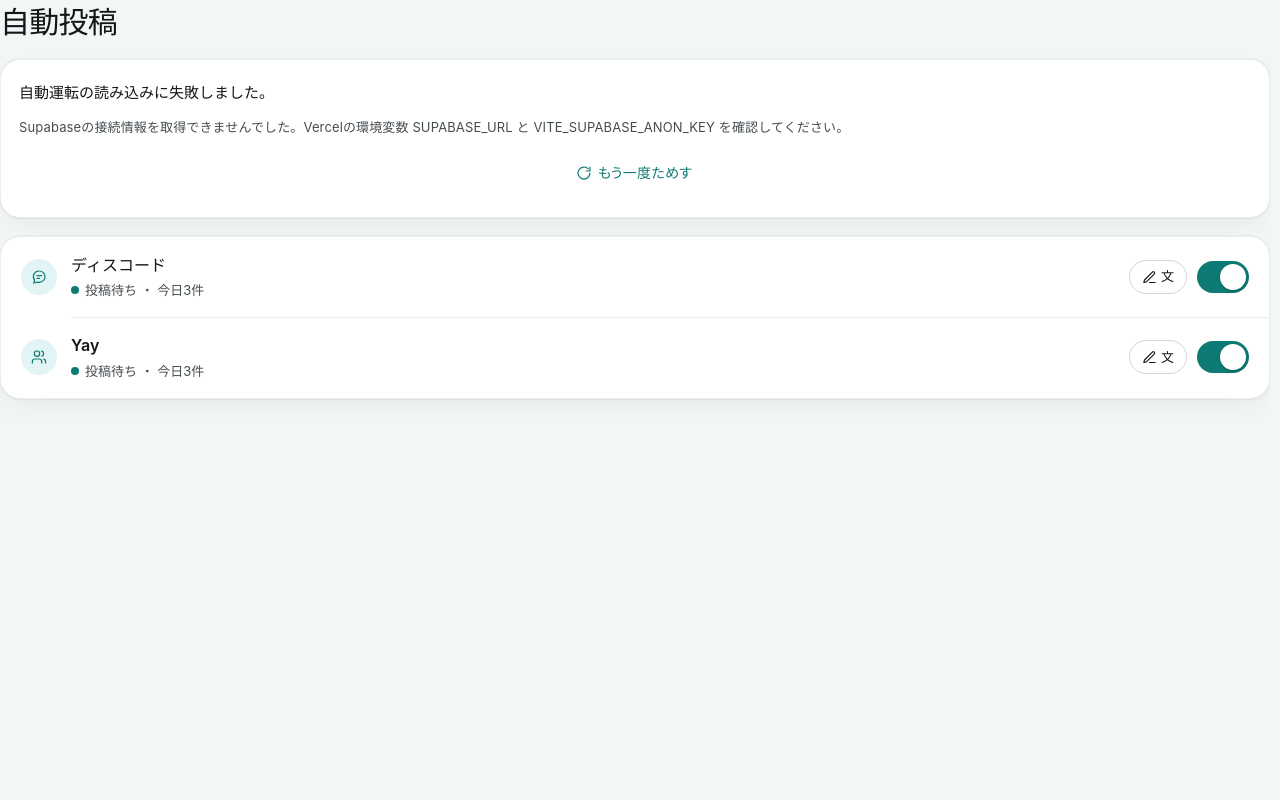
Test: AutoPostHome（アプリを開いて最初の1画面） › ポップアップの「これまでの文」の「使う」で、上の欄に入る（押しただけでは保存しない）
Click the button named "ディスコードの文を見る・直す" at (1158, 277), box [1129,260,1187,294]
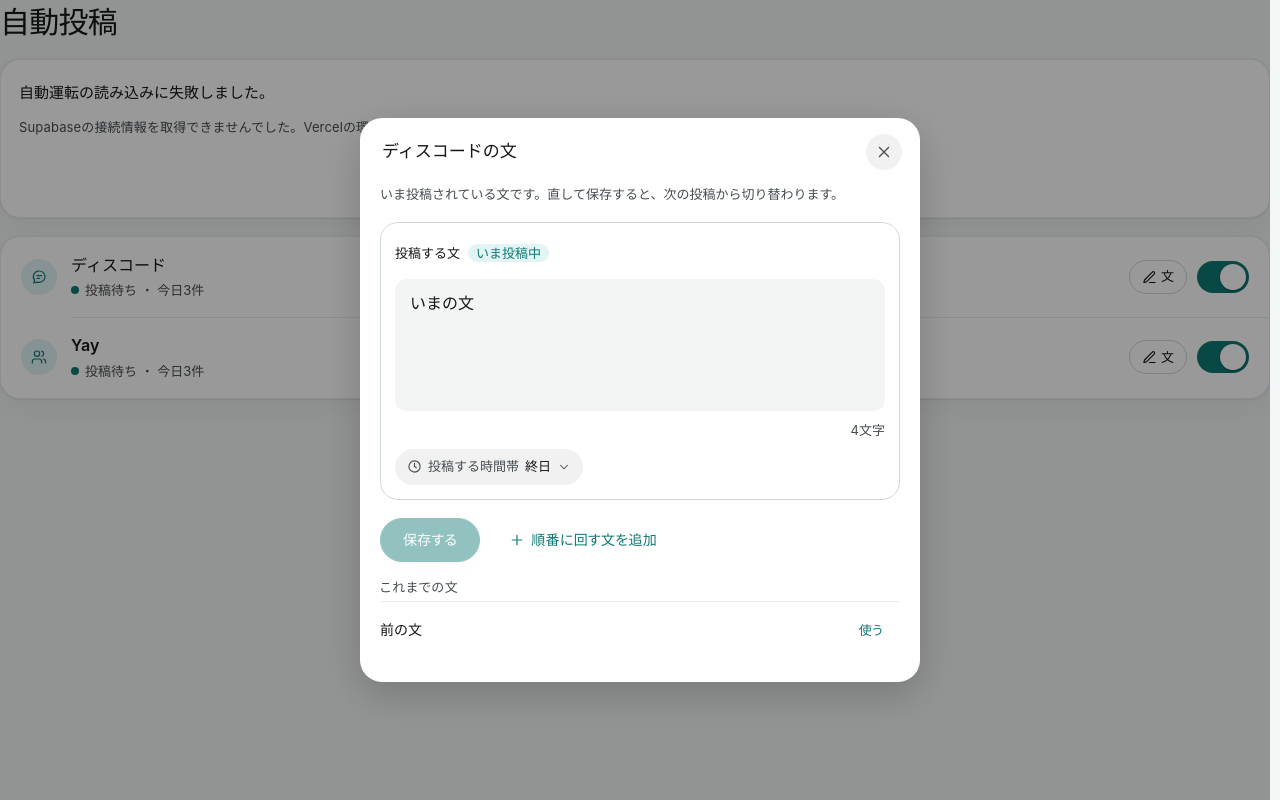
Click the button with aria-label "「前の文」を使う" at (871, 630), box [842,612,900,648]
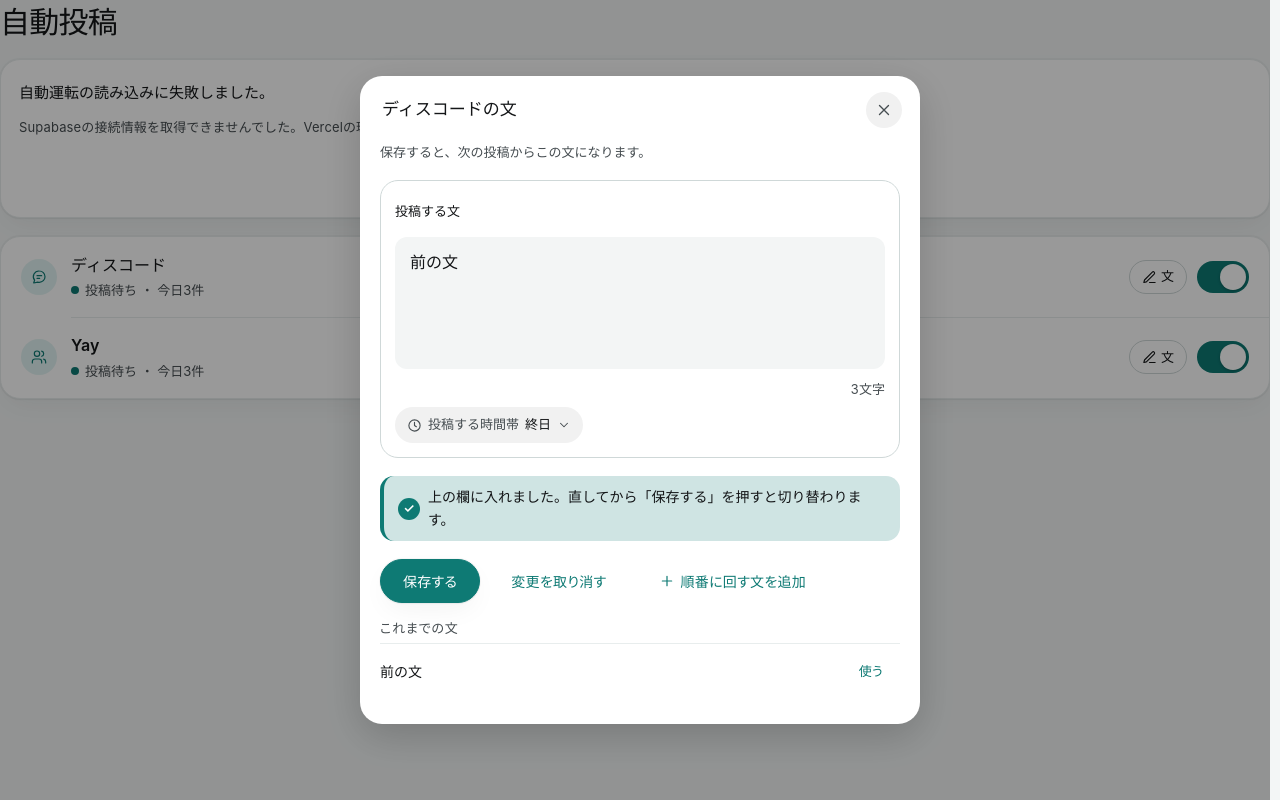
Now the text box named "投稿する文" holds "前の文", box [395,238,885,370]
Now the button "保存する" is enabled, box [380,559,480,603]
